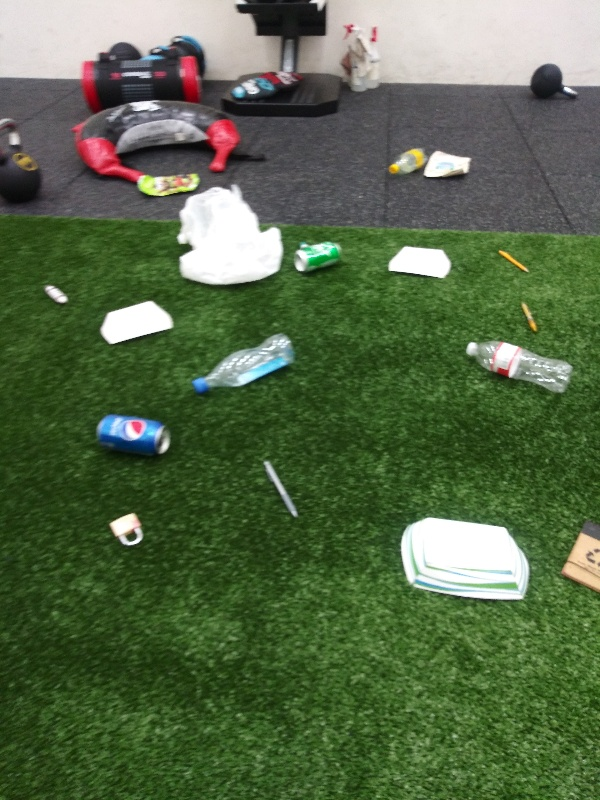bag: (134, 169, 202, 201), (417, 147, 475, 182)
bottle: (187, 332, 296, 395), (462, 334, 572, 396), (384, 141, 432, 180)
can: (93, 410, 179, 459), (289, 236, 345, 279)
plate: (389, 515, 537, 612), (98, 297, 179, 350), (381, 243, 454, 286)
